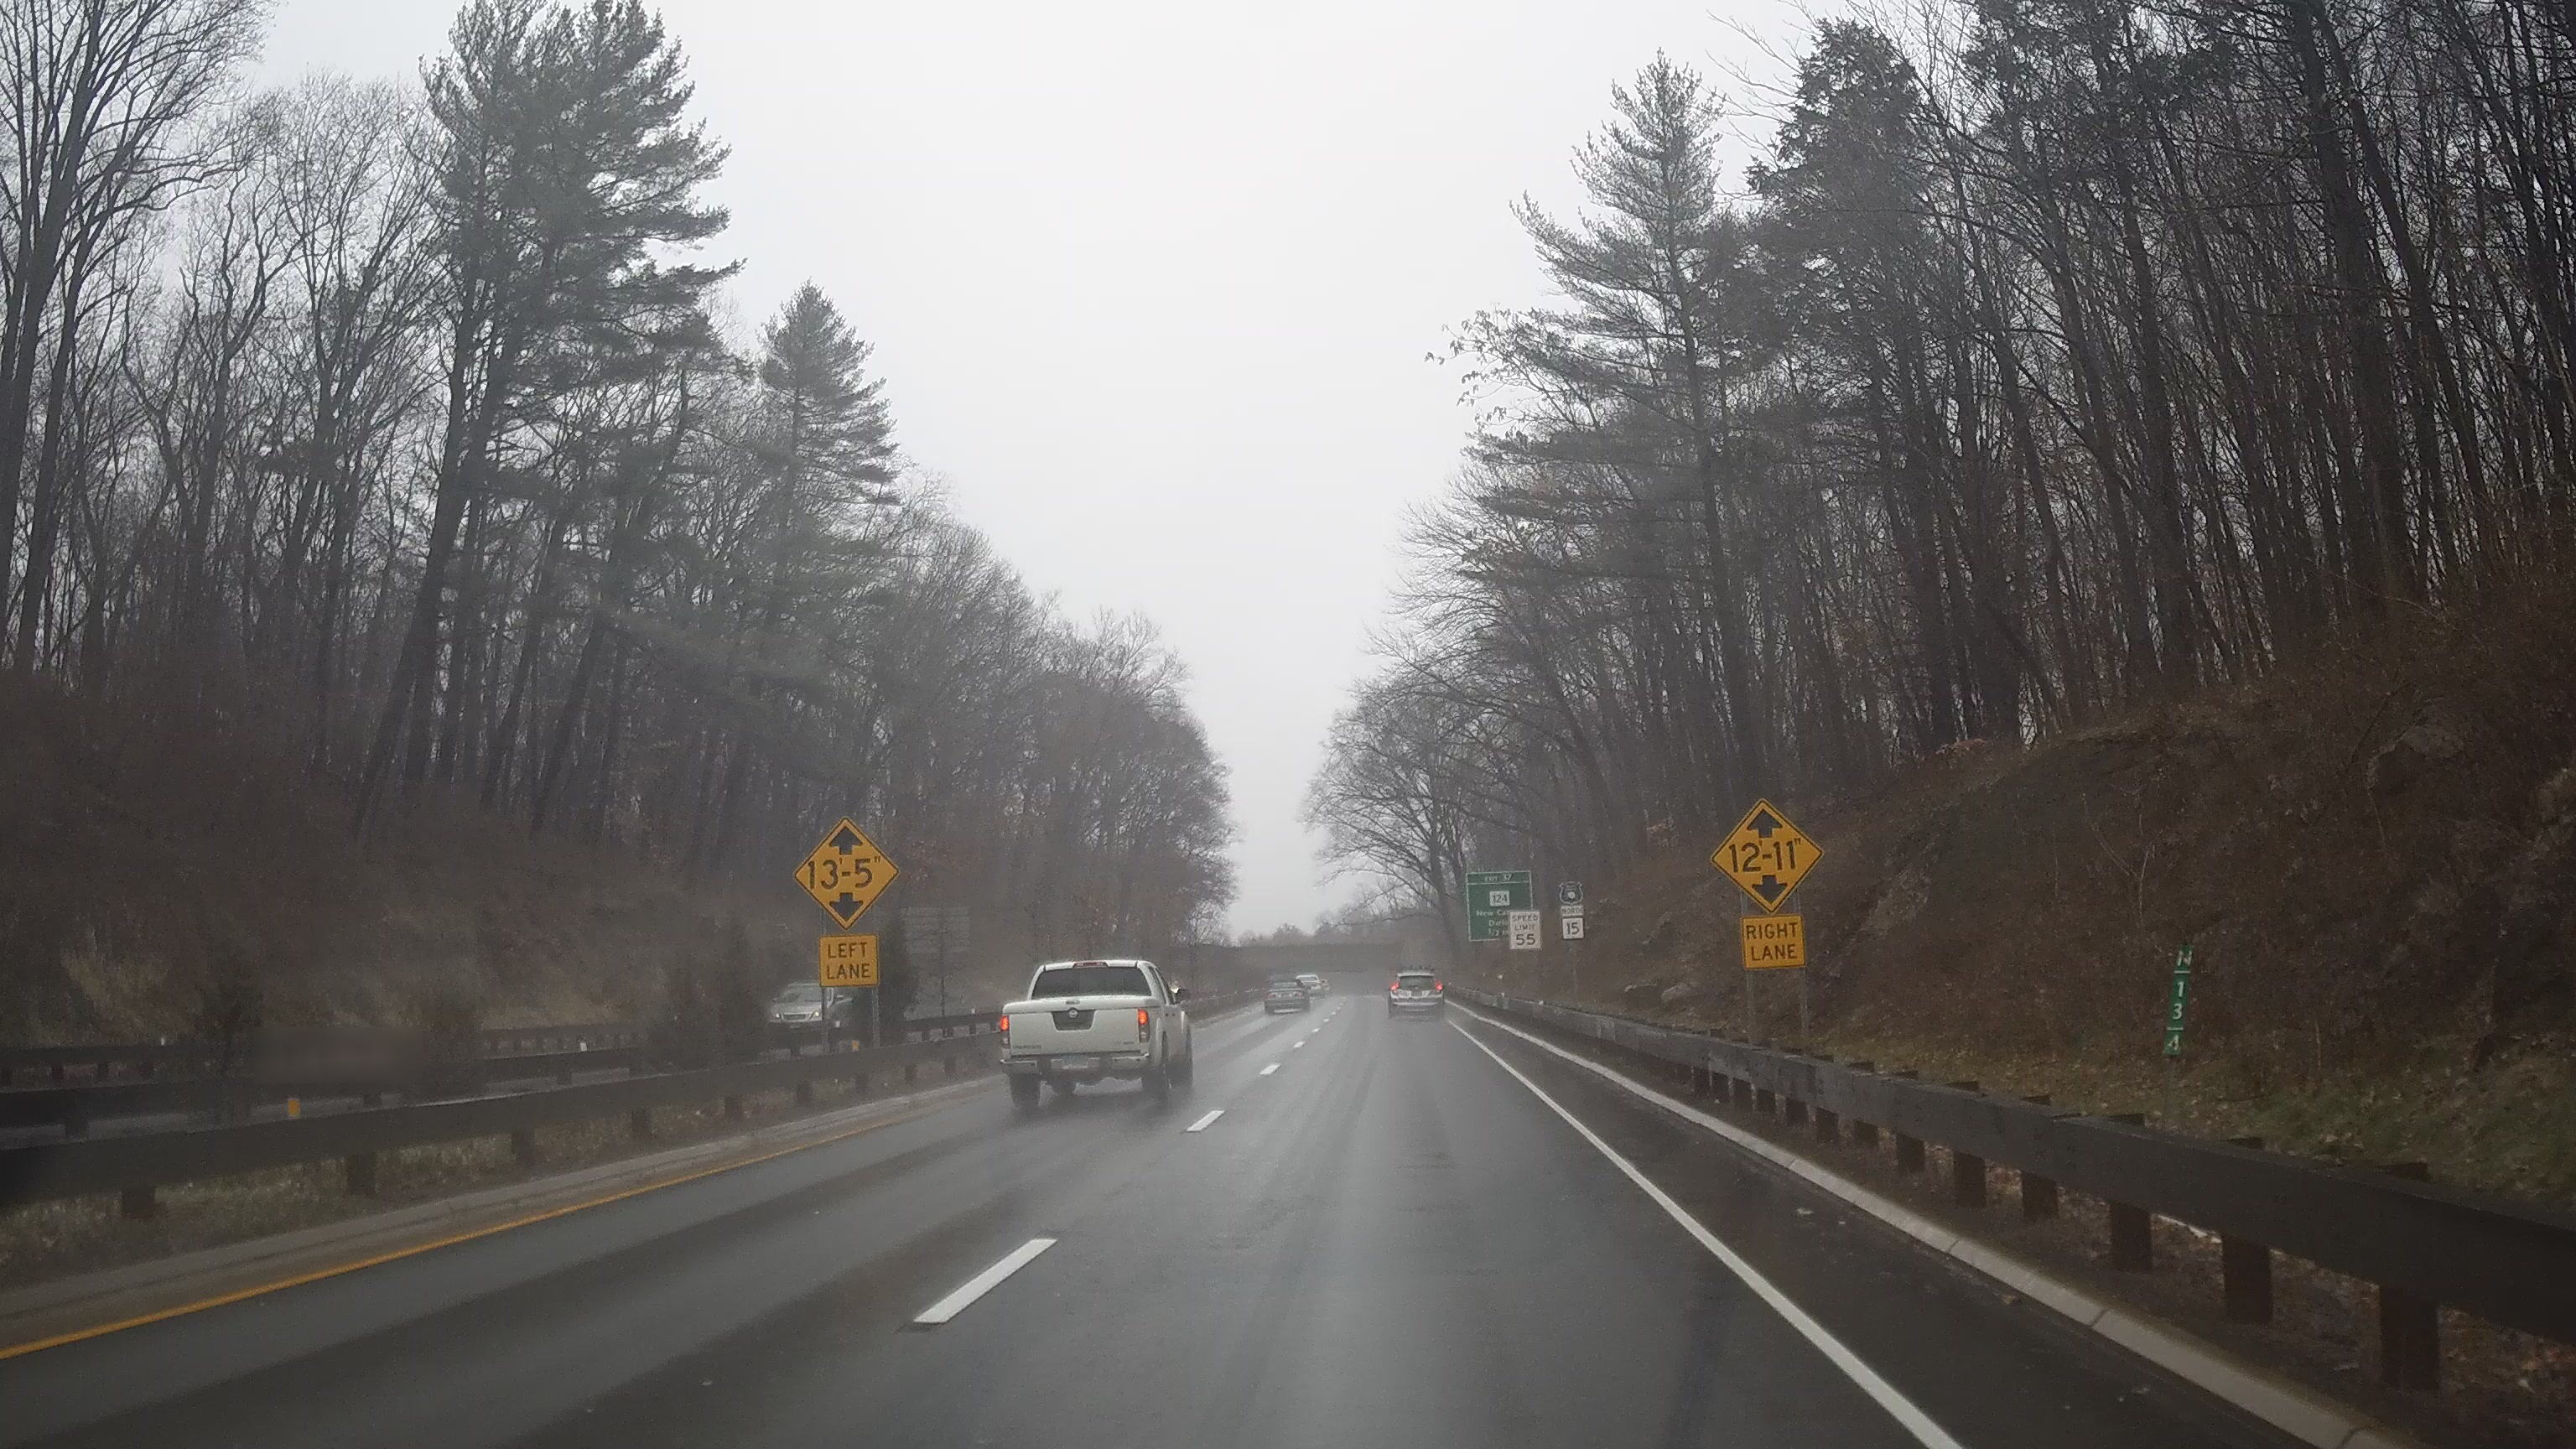low-clearance-sign: (1709, 798, 1826, 916), (791, 816, 902, 932)
